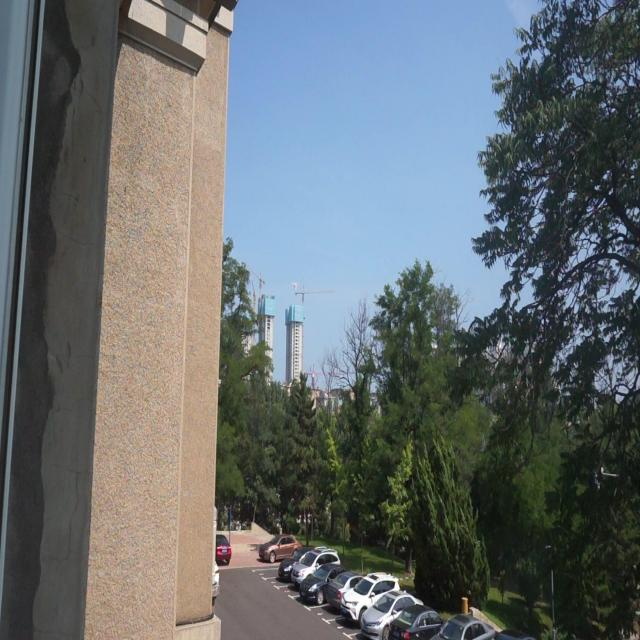UAV: (292, 283, 297, 289)
